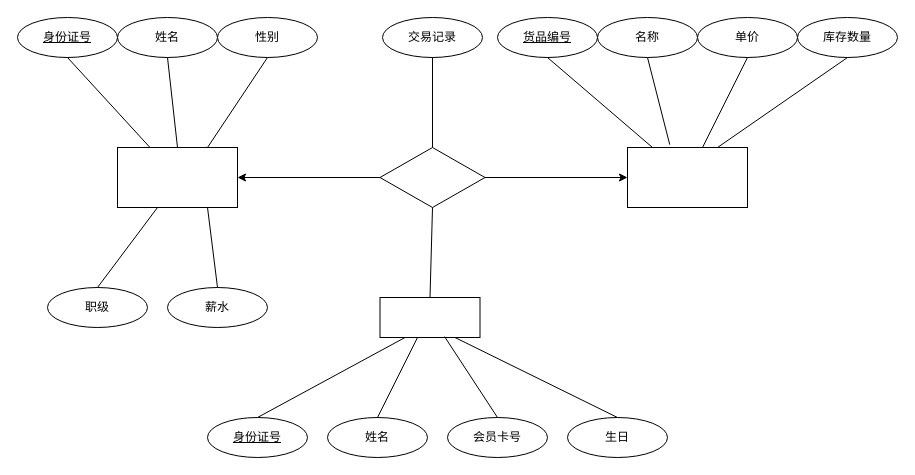
This 915x475 diagram has some shape labels left out. The box of each missing label's shape, as (x1, y1, x2, y2) in pixels:
交易: (379, 146, 485, 208)
口罩: (626, 146, 748, 208)
销售人员: (116, 146, 238, 208)
顾客: (379, 296, 480, 338)
